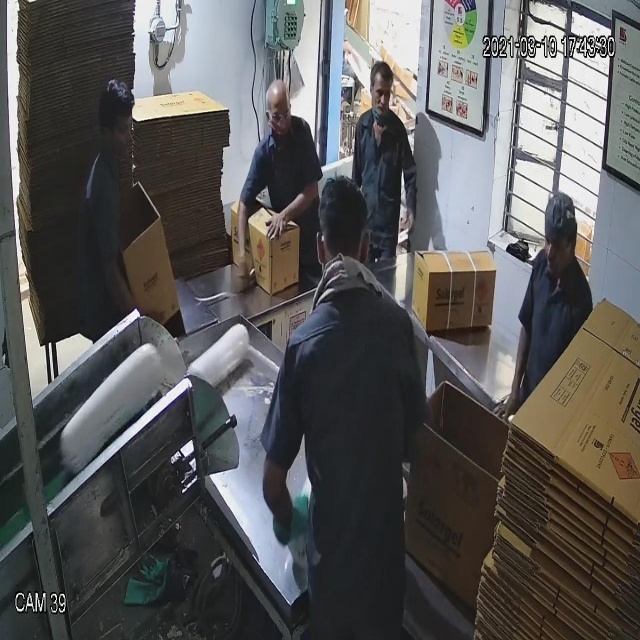Sin_guantes: (475, 309, 534, 417), (254, 185, 336, 244), (221, 197, 261, 304), (391, 142, 424, 249)
